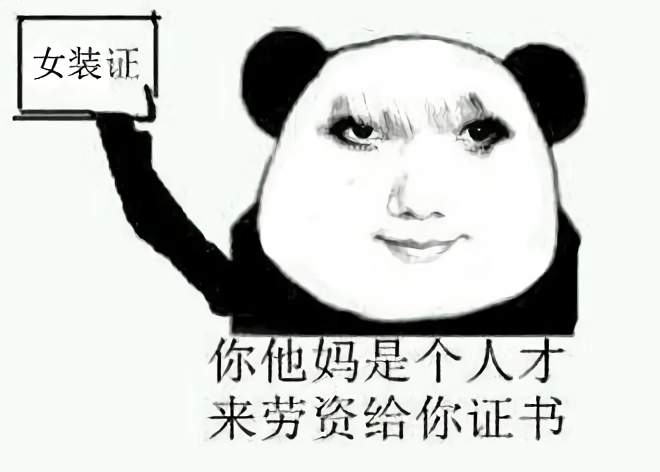dragon: (318, 95, 520, 267)
